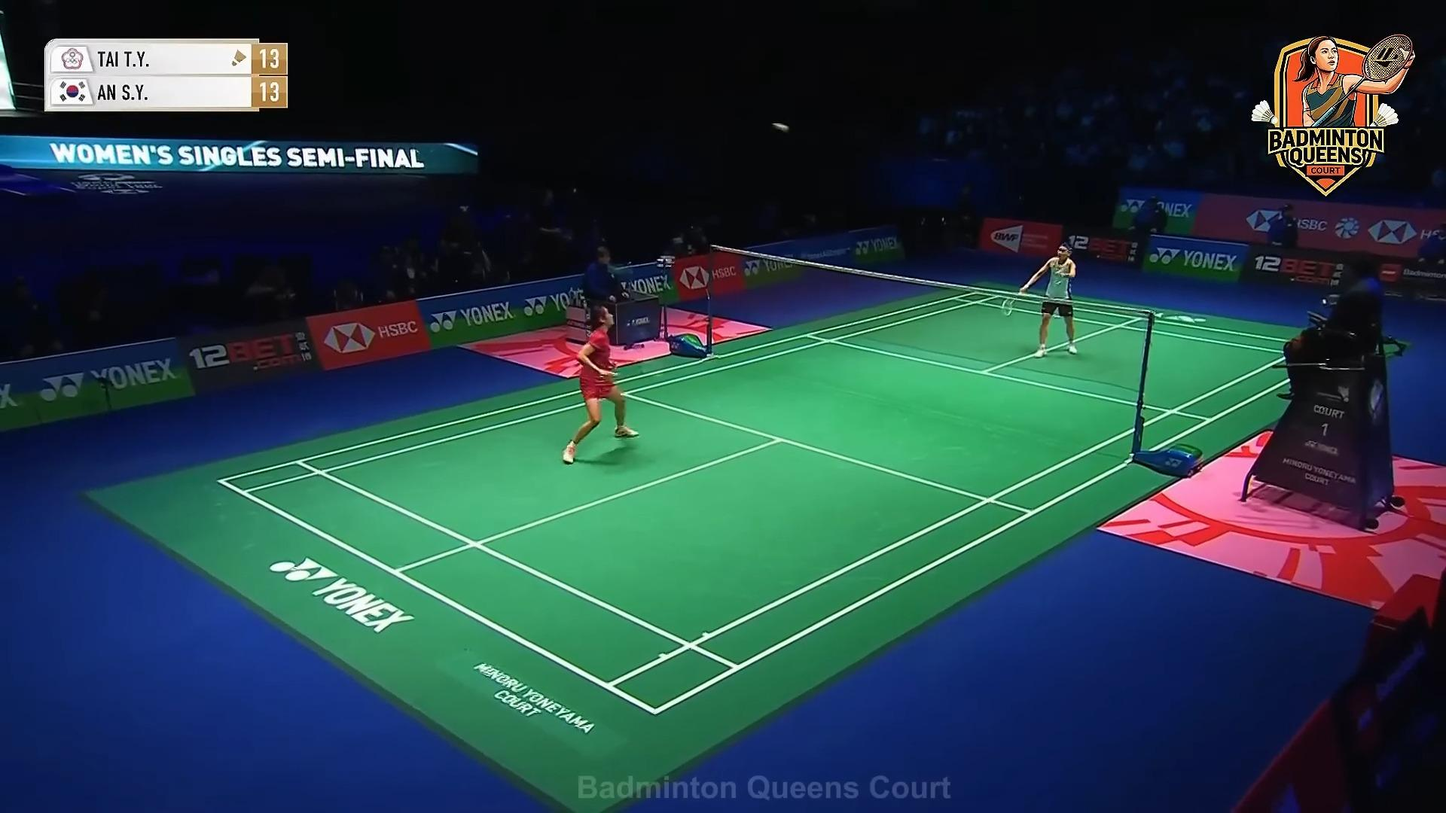player: (561, 303, 639, 467), (1019, 242, 1078, 359)
